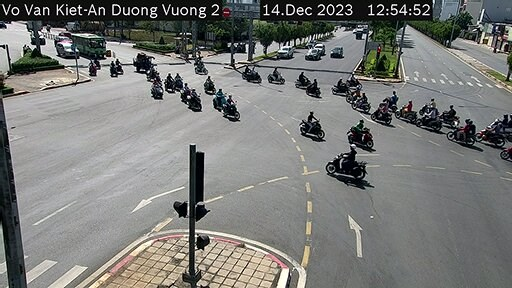bus: (68, 30, 107, 57)
car: (51, 45, 86, 57), (277, 43, 293, 69), (327, 42, 344, 62), (304, 45, 318, 64), (313, 40, 328, 57)
motorbike: (327, 148, 366, 182), (451, 116, 482, 147), (346, 119, 371, 152), (298, 109, 324, 136), (301, 74, 326, 102), (374, 97, 393, 126), (219, 94, 239, 117), (293, 68, 312, 92), (399, 97, 416, 123), (268, 67, 284, 91), (249, 64, 264, 88), (148, 77, 164, 99), (389, 86, 400, 118), (185, 88, 200, 109), (211, 87, 226, 108), (241, 63, 252, 78)
